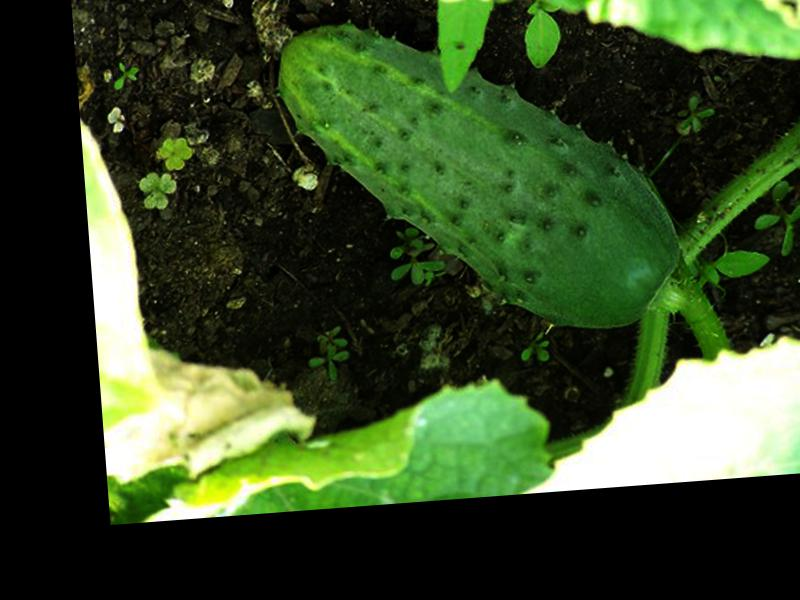Cucumber: (274, 0, 688, 353)
